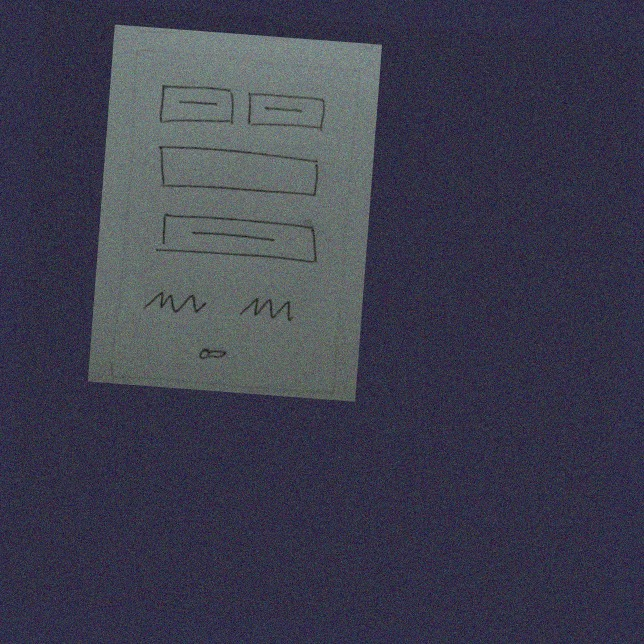button: (151, 207, 330, 269), (150, 77, 246, 132), (246, 87, 335, 137)
switch: (192, 340, 235, 365)
text: (133, 280, 217, 323), (236, 289, 300, 327)
text_input: (150, 142, 328, 203)
